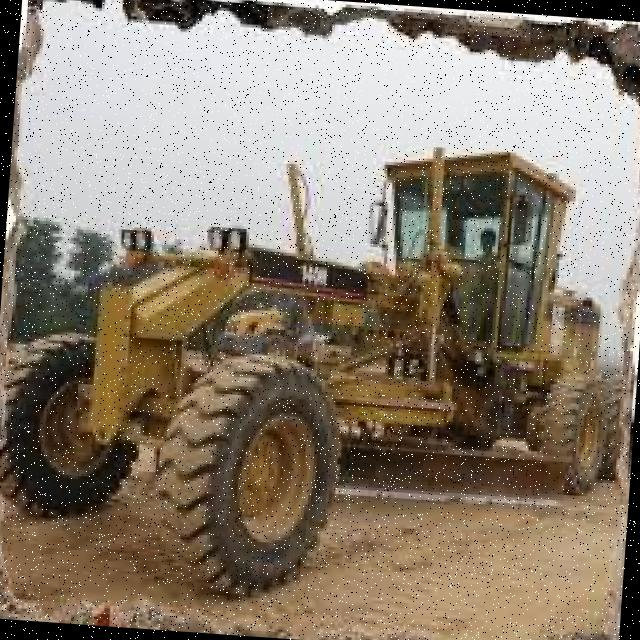Grader: (2, 115, 640, 607)
